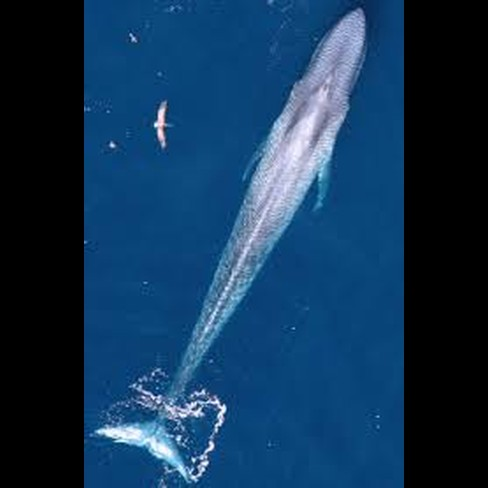bluewhale: (91, 3, 371, 485)
